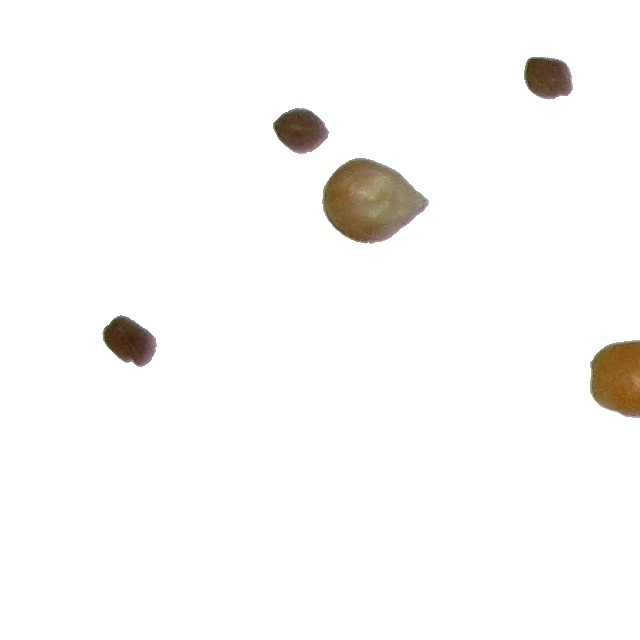buckwheat: (101, 314, 158, 368), (272, 107, 330, 155), (523, 56, 574, 101)
mais: (321, 157, 430, 245), (589, 339, 640, 419)
